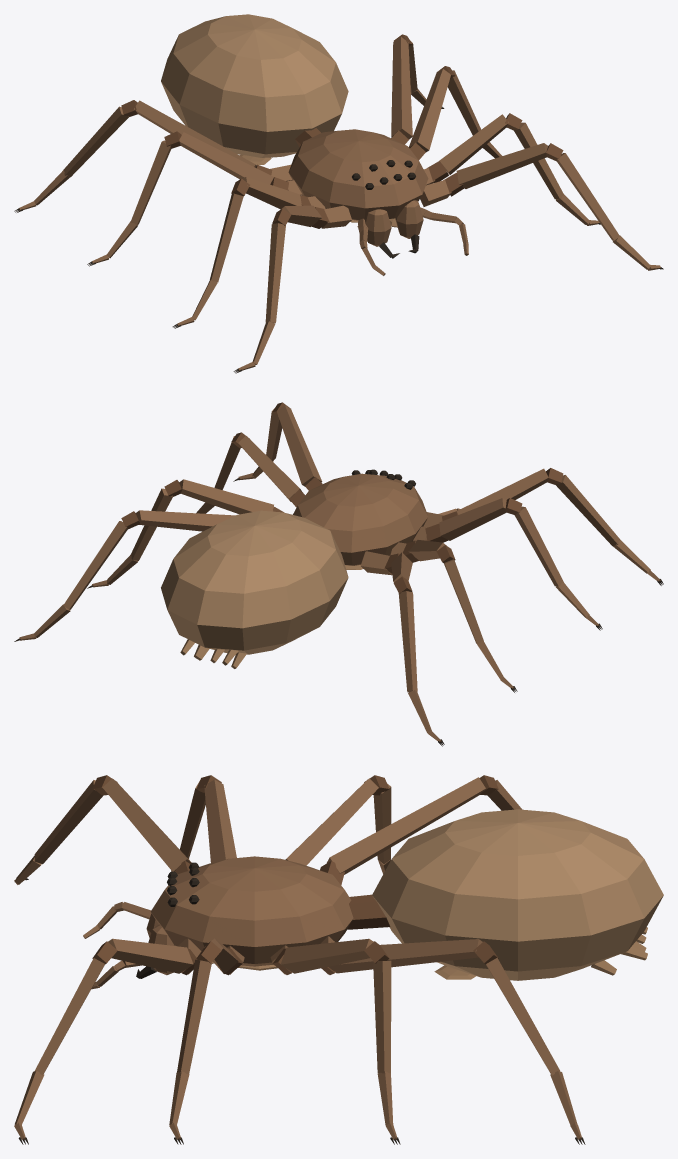
The model's file is spider.glb.
The picture shows the model from 3 angles, top to bottom: view 1: azimuth 30°, elevation 25°; view 2: azimuth 150°, elevation 25°; view 3: azimuth 270°, elevation 25°; orthographic projection. The views are drawn at different scales.
Parts seen in each view (by area): view 1: Opisthosoma_Abdomen, Prosoma_Cephalothorax, Leg_R4_3_Femur, Leg_R1_3_Femur, Leg_L3_3_Femur, Leg_R3_3_Femur, Leg_L1_5_Tibia, Leg_R2_3_Femur, Leg_L4_3_Femur, Leg_R1_5_Tibia, Leg_L4_5_Tibia, Leg_L2_5_Tibia (+8 smaller); view 2: Opisthosoma_Abdomen, Prosoma_Cephalothorax, Leg_R3_3_Femur, Leg_R1_3_Femur, Leg_R4_3_Femur, Leg_L2_3_Femur, Leg_L4_5_Tibia, Leg_R4_5_Tibia, Leg_L1_5_Tibia, Leg_R2_3_Femur, Leg_L1_3_Femur, Leg_L2_5_Tibia (+5 smaller); view 3: Opisthosoma_Abdomen, Prosoma_Cephalothorax, Leg_L4_3_Femur, Leg_R4_3_Femur, Leg_R3_3_Femur, Leg_L1_3_Femur, Leg_L3_3_Femur, Leg_R1_3_Femur, Leg_R3_5_Tibia, Leg_L2_3_Femur, Leg_R2_5_Tibia, Leg_R4_5_Tibia (+9 smaller).
Boxes of the visible parts, x1,y1,x2,y2 form: Opisthosoma_Abdomen: [161, 14, 348, 157]; Prosoma_Cephalothorax: [288, 129, 428, 220]; Leg_R4_3_Femur: [391, 37, 412, 139]; Leg_R1_3_Femur: [456, 143, 548, 188]; Leg_L3_3_Femur: [179, 132, 273, 184]; Leg_R3_3_Femur: [409, 69, 450, 152]; Leg_L1_5_Tibia: [265, 223, 285, 323]; Leg_R2_3_Femur: [439, 114, 508, 174]; Leg_L4_3_Femur: [134, 100, 256, 167]; Leg_R1_5_Tibia: [557, 153, 619, 240]; Leg_L4_5_Tibia: [63, 106, 129, 177]; Leg_L2_5_Tibia: [210, 193, 243, 282]; Opisthosoma_Abdomen: [161, 510, 348, 654]; Prosoma_Cephalothorax: [293, 473, 428, 565]; Leg_R3_3_Femur: [179, 479, 273, 514]; Leg_R1_3_Femur: [277, 405, 322, 486]; Leg_R4_3_Femur: [135, 510, 234, 531]; Leg_L2_3_Femur: [439, 498, 506, 540]; Leg_L4_5_Tibia: [398, 591, 417, 692]; Leg_R4_5_Tibia: [63, 521, 127, 609]; Leg_L1_5_Tibia: [555, 475, 619, 546]; Leg_R2_3_Femur: [238, 436, 301, 501]; Leg_L1_3_Femur: [456, 468, 548, 514]; Leg_L2_5_Tibia: [514, 506, 563, 586]; Opisthosoma_Abdomen: [372, 809, 663, 980]; Prosoma_Cephalothorax: [150, 856, 353, 966]; Leg_L4_3_Femur: [327, 777, 485, 874]; Leg_R4_3_Femur: [328, 939, 482, 973]; Leg_R3_3_Femur: [280, 938, 373, 973]; Leg_L1_3_Femur: [102, 778, 191, 871]; Leg_L3_3_Femur: [285, 778, 378, 865]; Leg_R1_3_Femur: [108, 938, 193, 973]; Leg_R3_5_Tibia: [373, 960, 391, 1073]; Leg_L2_3_Femur: [204, 779, 236, 862]; Leg_R2_5_Tibia: [177, 959, 211, 1074]; Leg_R4_5_Tibia: [486, 958, 559, 1075].
Bounding box in the file's own units: 6.15 × 2.05 × 6.37.
